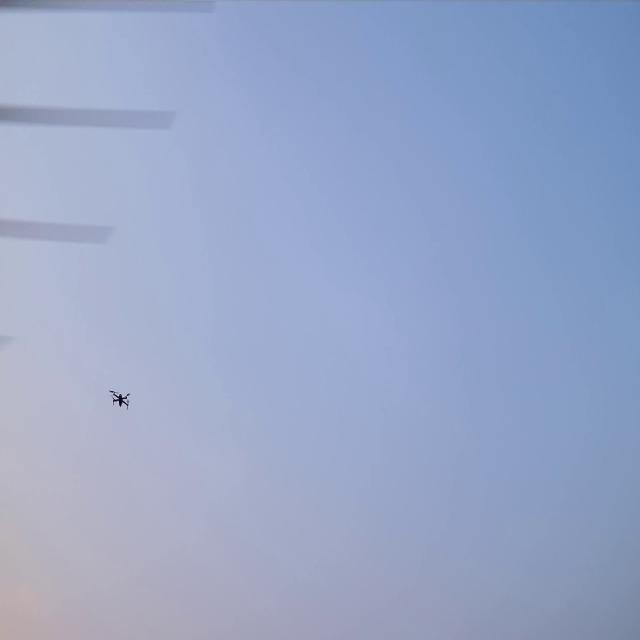UAV: (109, 387, 130, 409)
